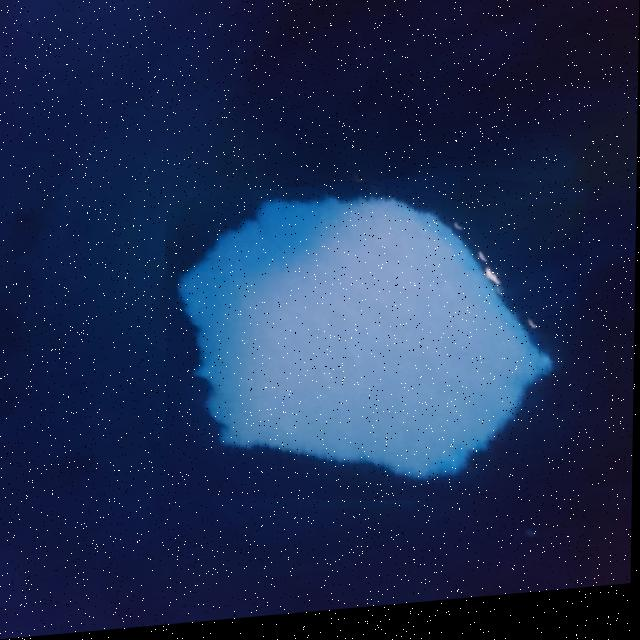litter: (161, 173, 583, 544)
